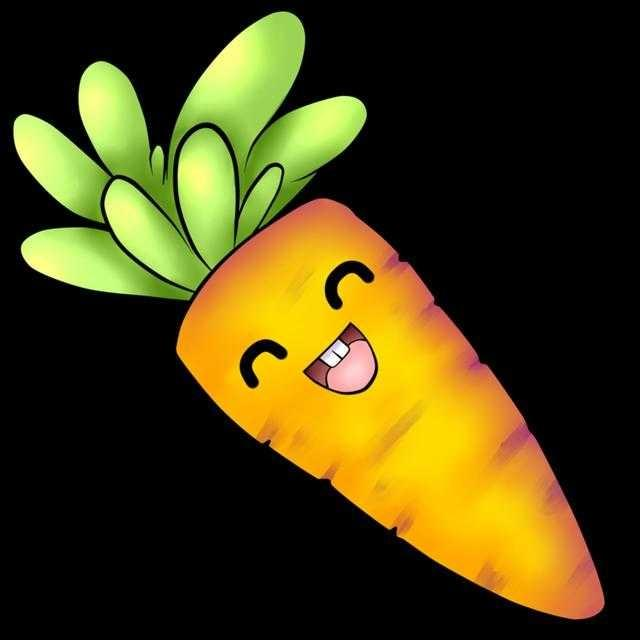carrots: (163, 184, 612, 616)
